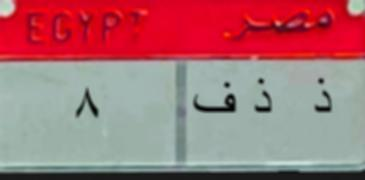faa: (188, 79, 238, 123), (73, 80, 100, 125)
zaal: (308, 70, 336, 119), (249, 77, 277, 121)
